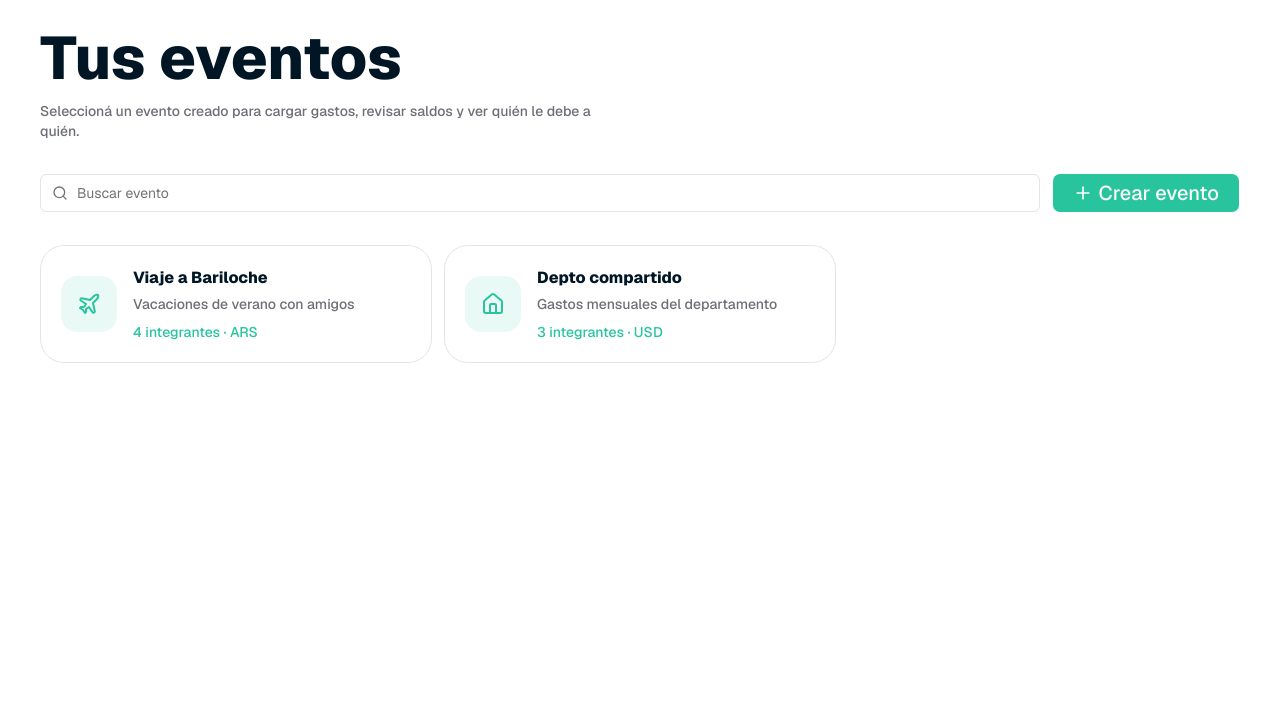
EventsPage › muestra un mensaje claro si falla la creación
Expected: the heading "Viaje a Bariloche" is shown, [133, 267, 268, 288]
Click the button "Crear evento".
click(1146, 193)  # box [1052, 173, 1240, 213]
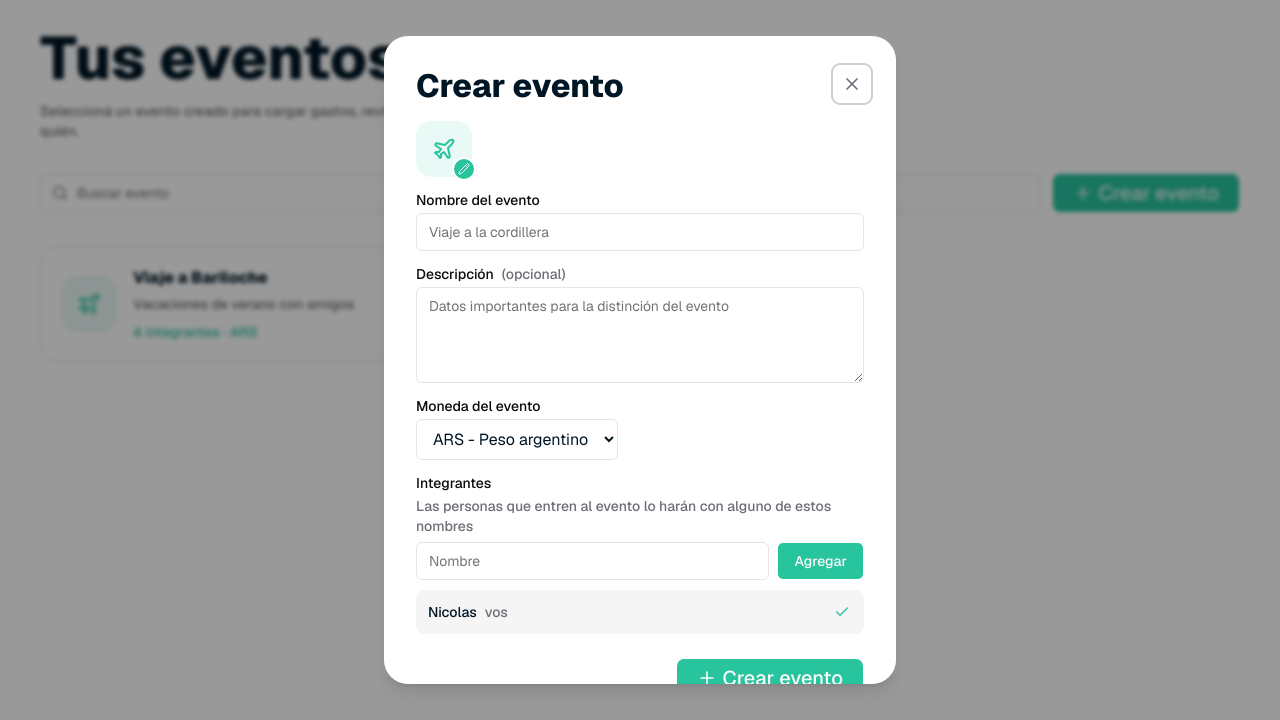
Type "Asado" into the field labelled "Nombre del evento".
click(640, 232); type("Asado")  # box [416, 213, 864, 251]
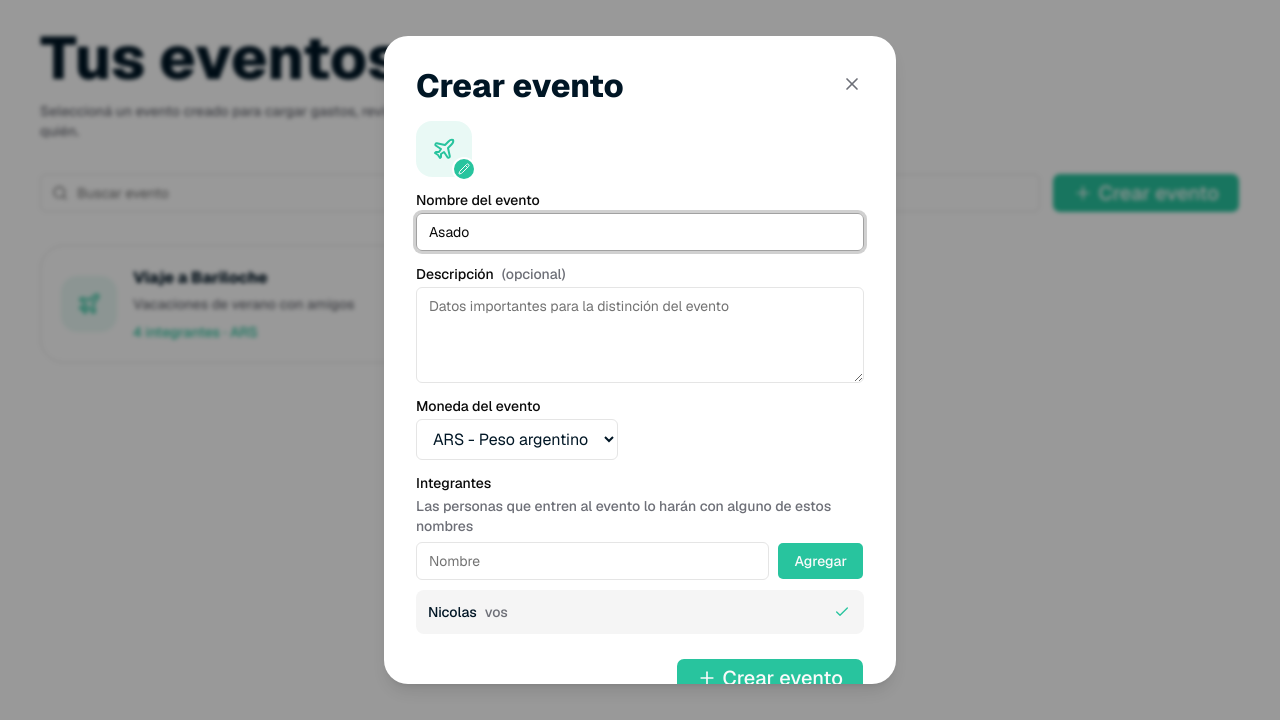
Click the button "Crear evento".
click(770, 678)  # box [676, 658, 864, 698]
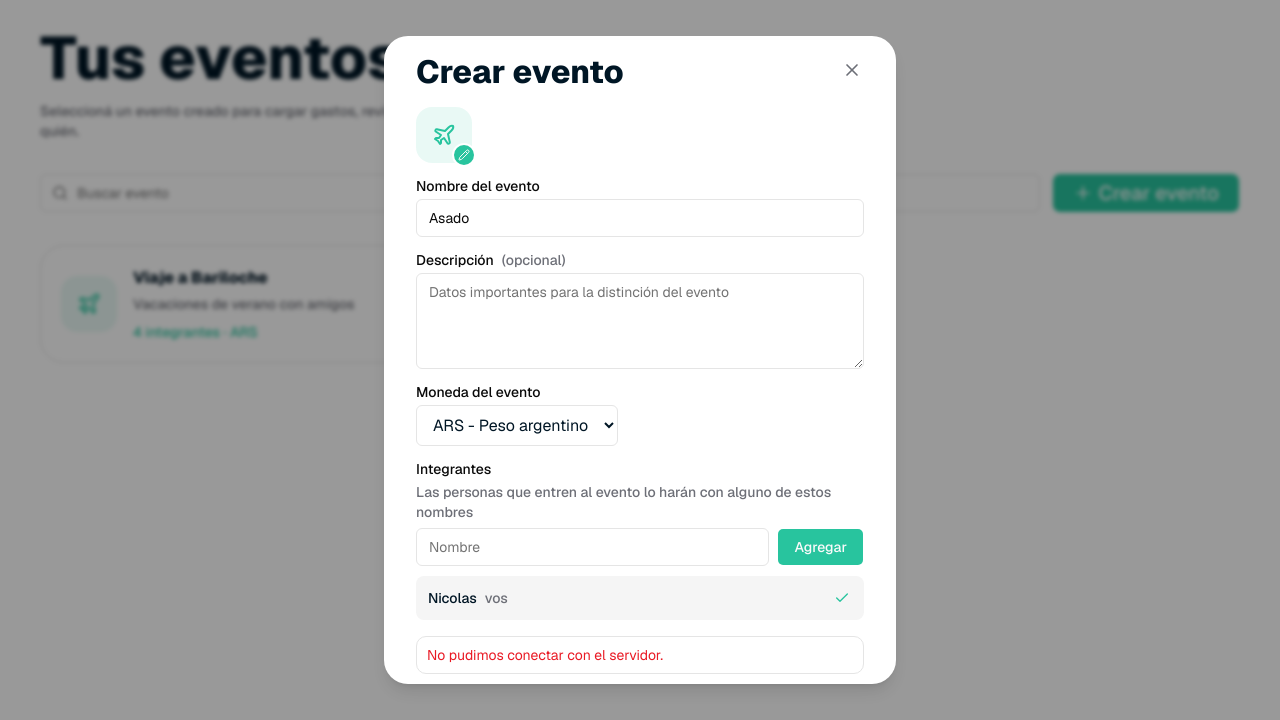
Expected: the text "No pudimos conectar con el servidor." is shown, [427, 646, 663, 664]
